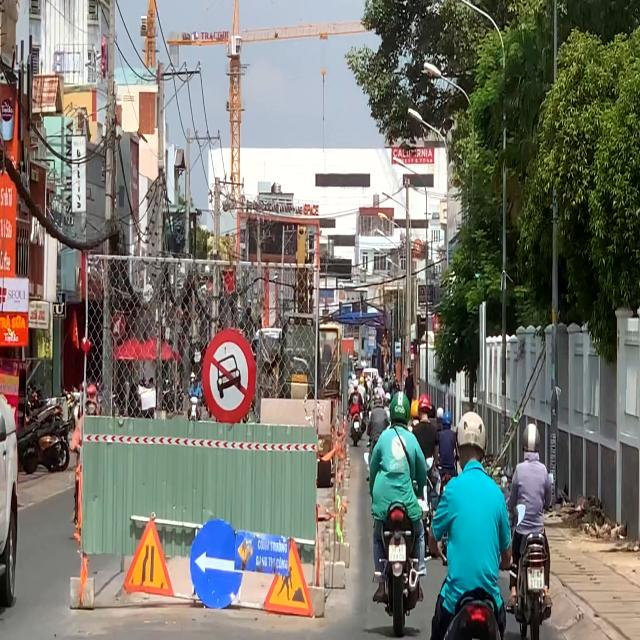P.103a: (201, 328, 257, 425)
R.301c: (189, 518, 244, 610)
W.203b: (123, 518, 175, 598)
W.227: (262, 536, 314, 619)
